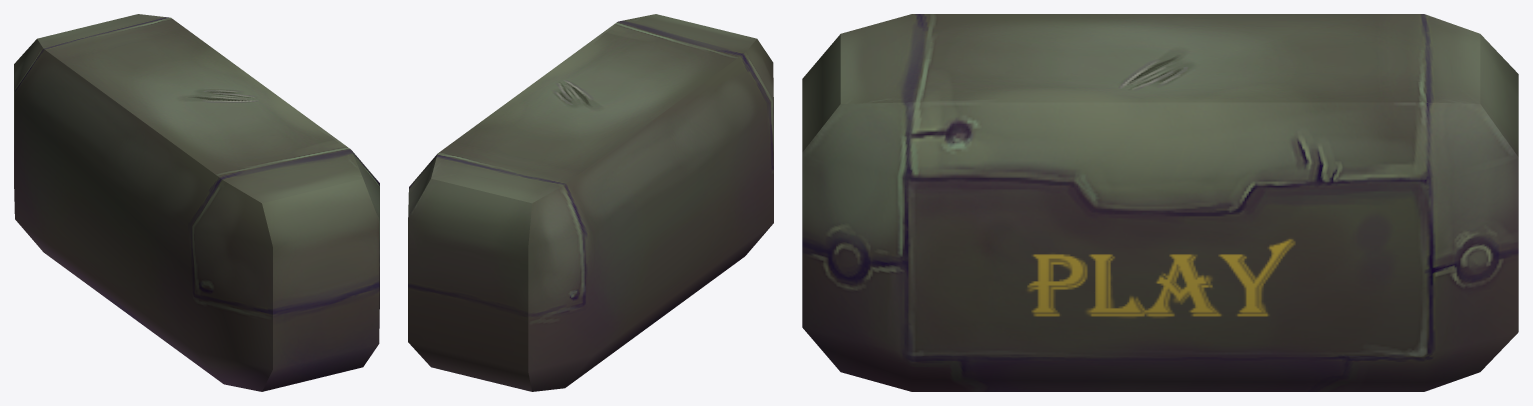
Rendered from MenuButton.fbx.
The picture shows the model from 3 angles, left to right: view 1: azimuth 30°, elevation 25°; view 2: azimuth 150°, elevation 25°; view 3: azimuth 270°, elevation 25°; orthographic projection. The views are drawn at different scales.
Parts seen in each view (by area): view 1: pCube5; view 2: pCube5; view 3: pCube5.
Part boxes in pixels (x1,y1,x2,y2): pCube5: (14, 14, 379, 391); pCube5: (408, 14, 773, 391); pCube5: (802, 14, 1518, 391).
Bounding box in the file's own units: 0.09 × 0.0948 × 0.2126.
